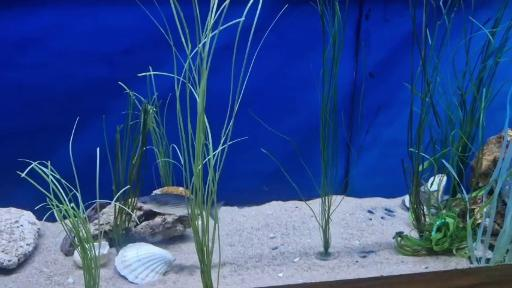Fish: (138, 194, 188, 215)
